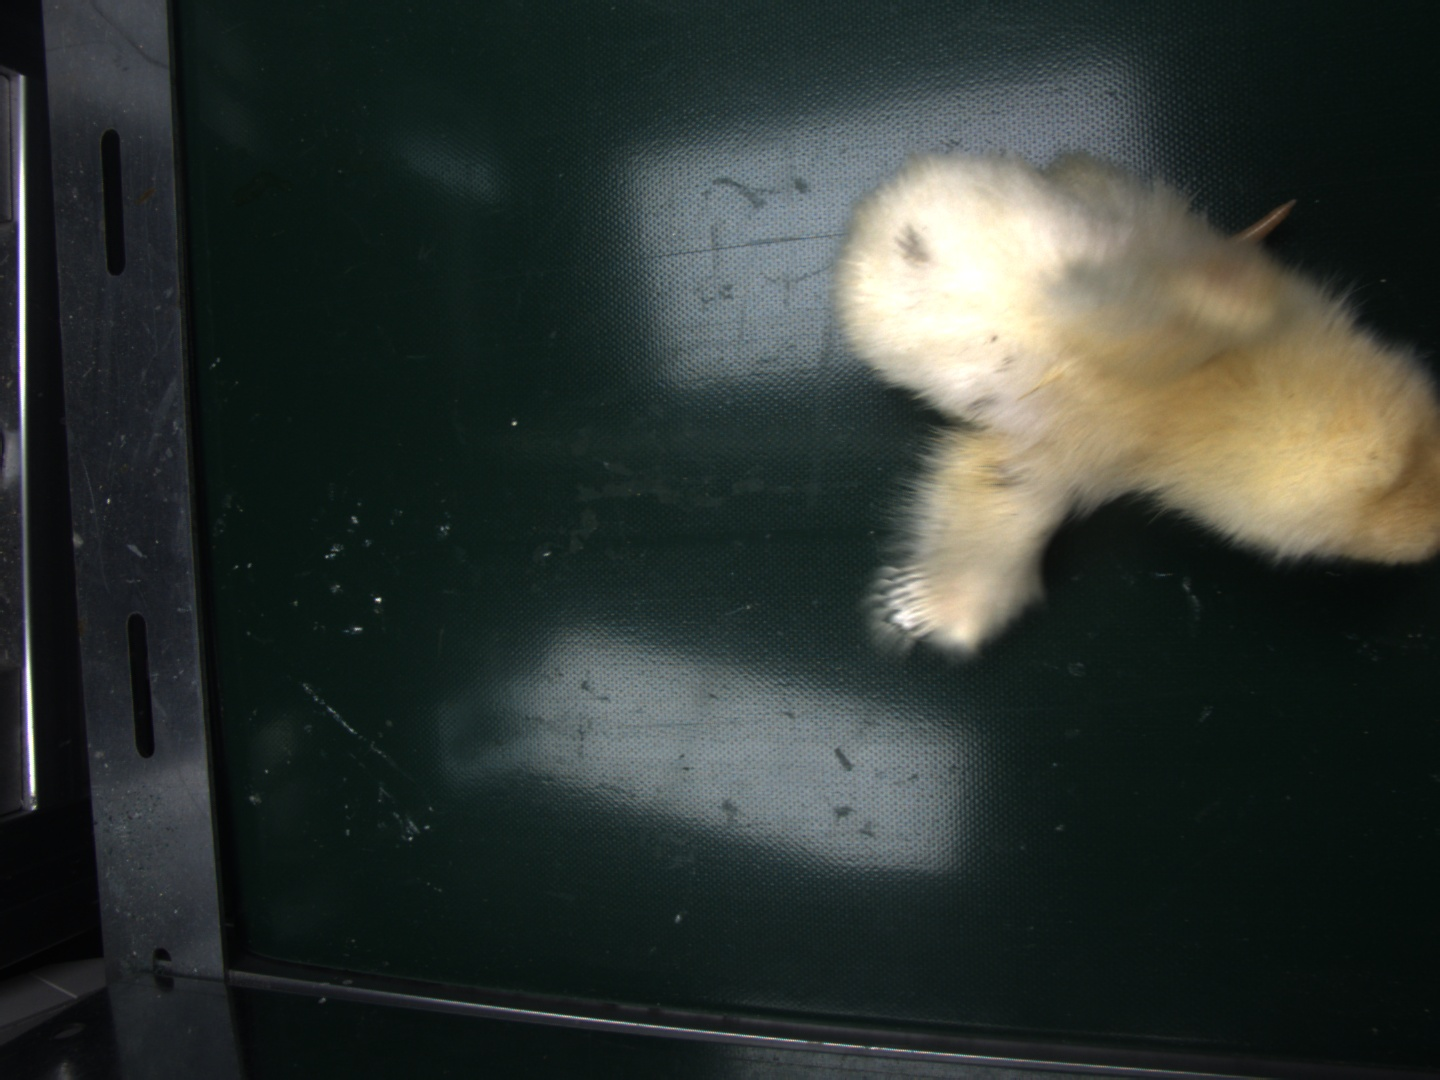male: (899, 567, 942, 638)
